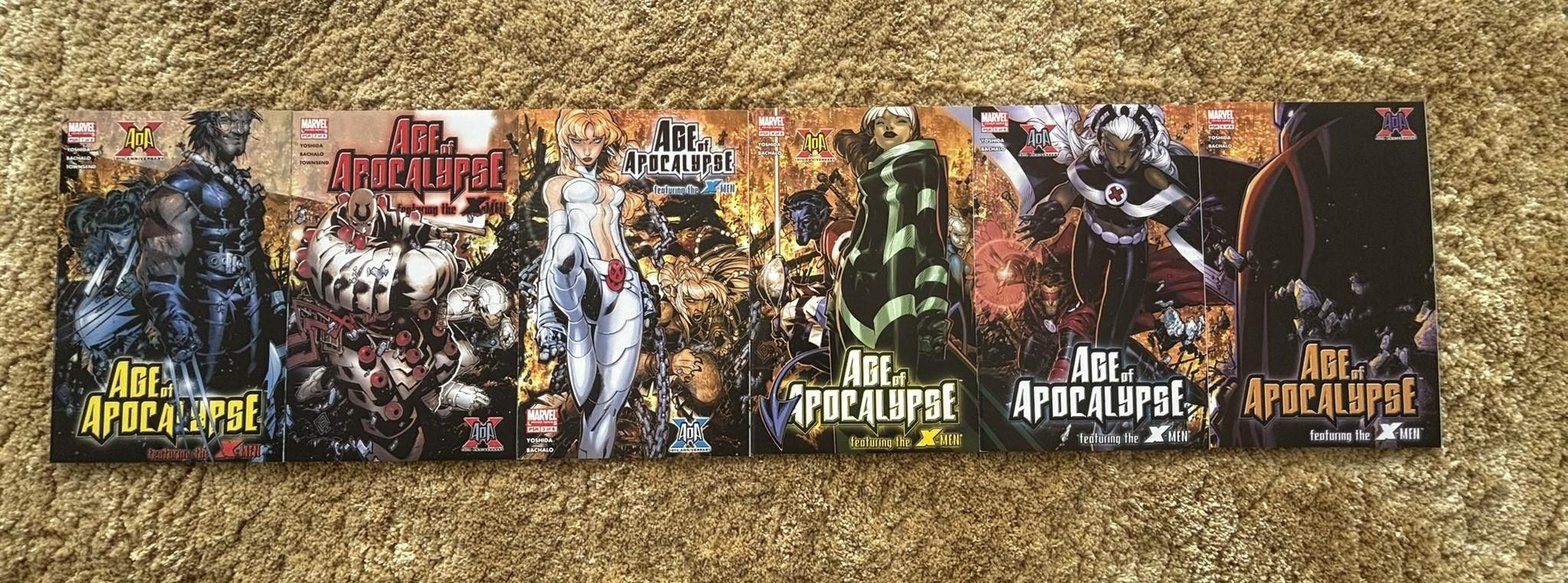comic: (972, 102, 1232, 451), (49, 98, 288, 469), (51, 106, 292, 467), (513, 108, 758, 459), (286, 108, 522, 461), (745, 105, 980, 455)
